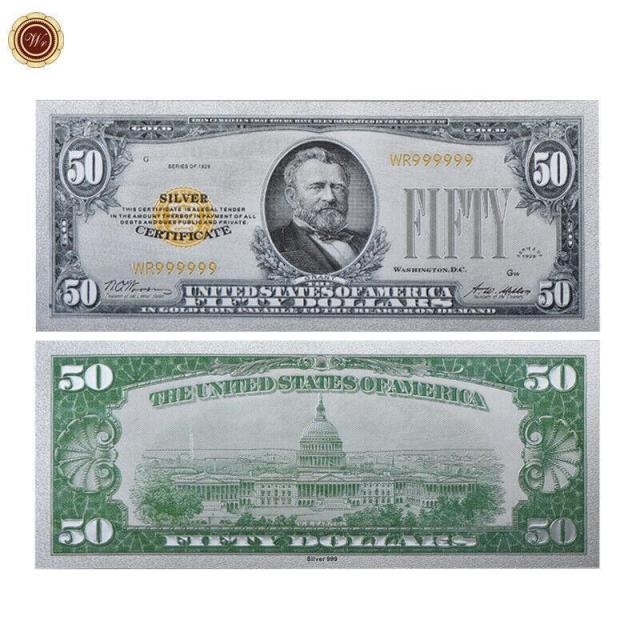50-Back: (40, 340, 606, 570)
50-Front: (33, 102, 598, 328)
